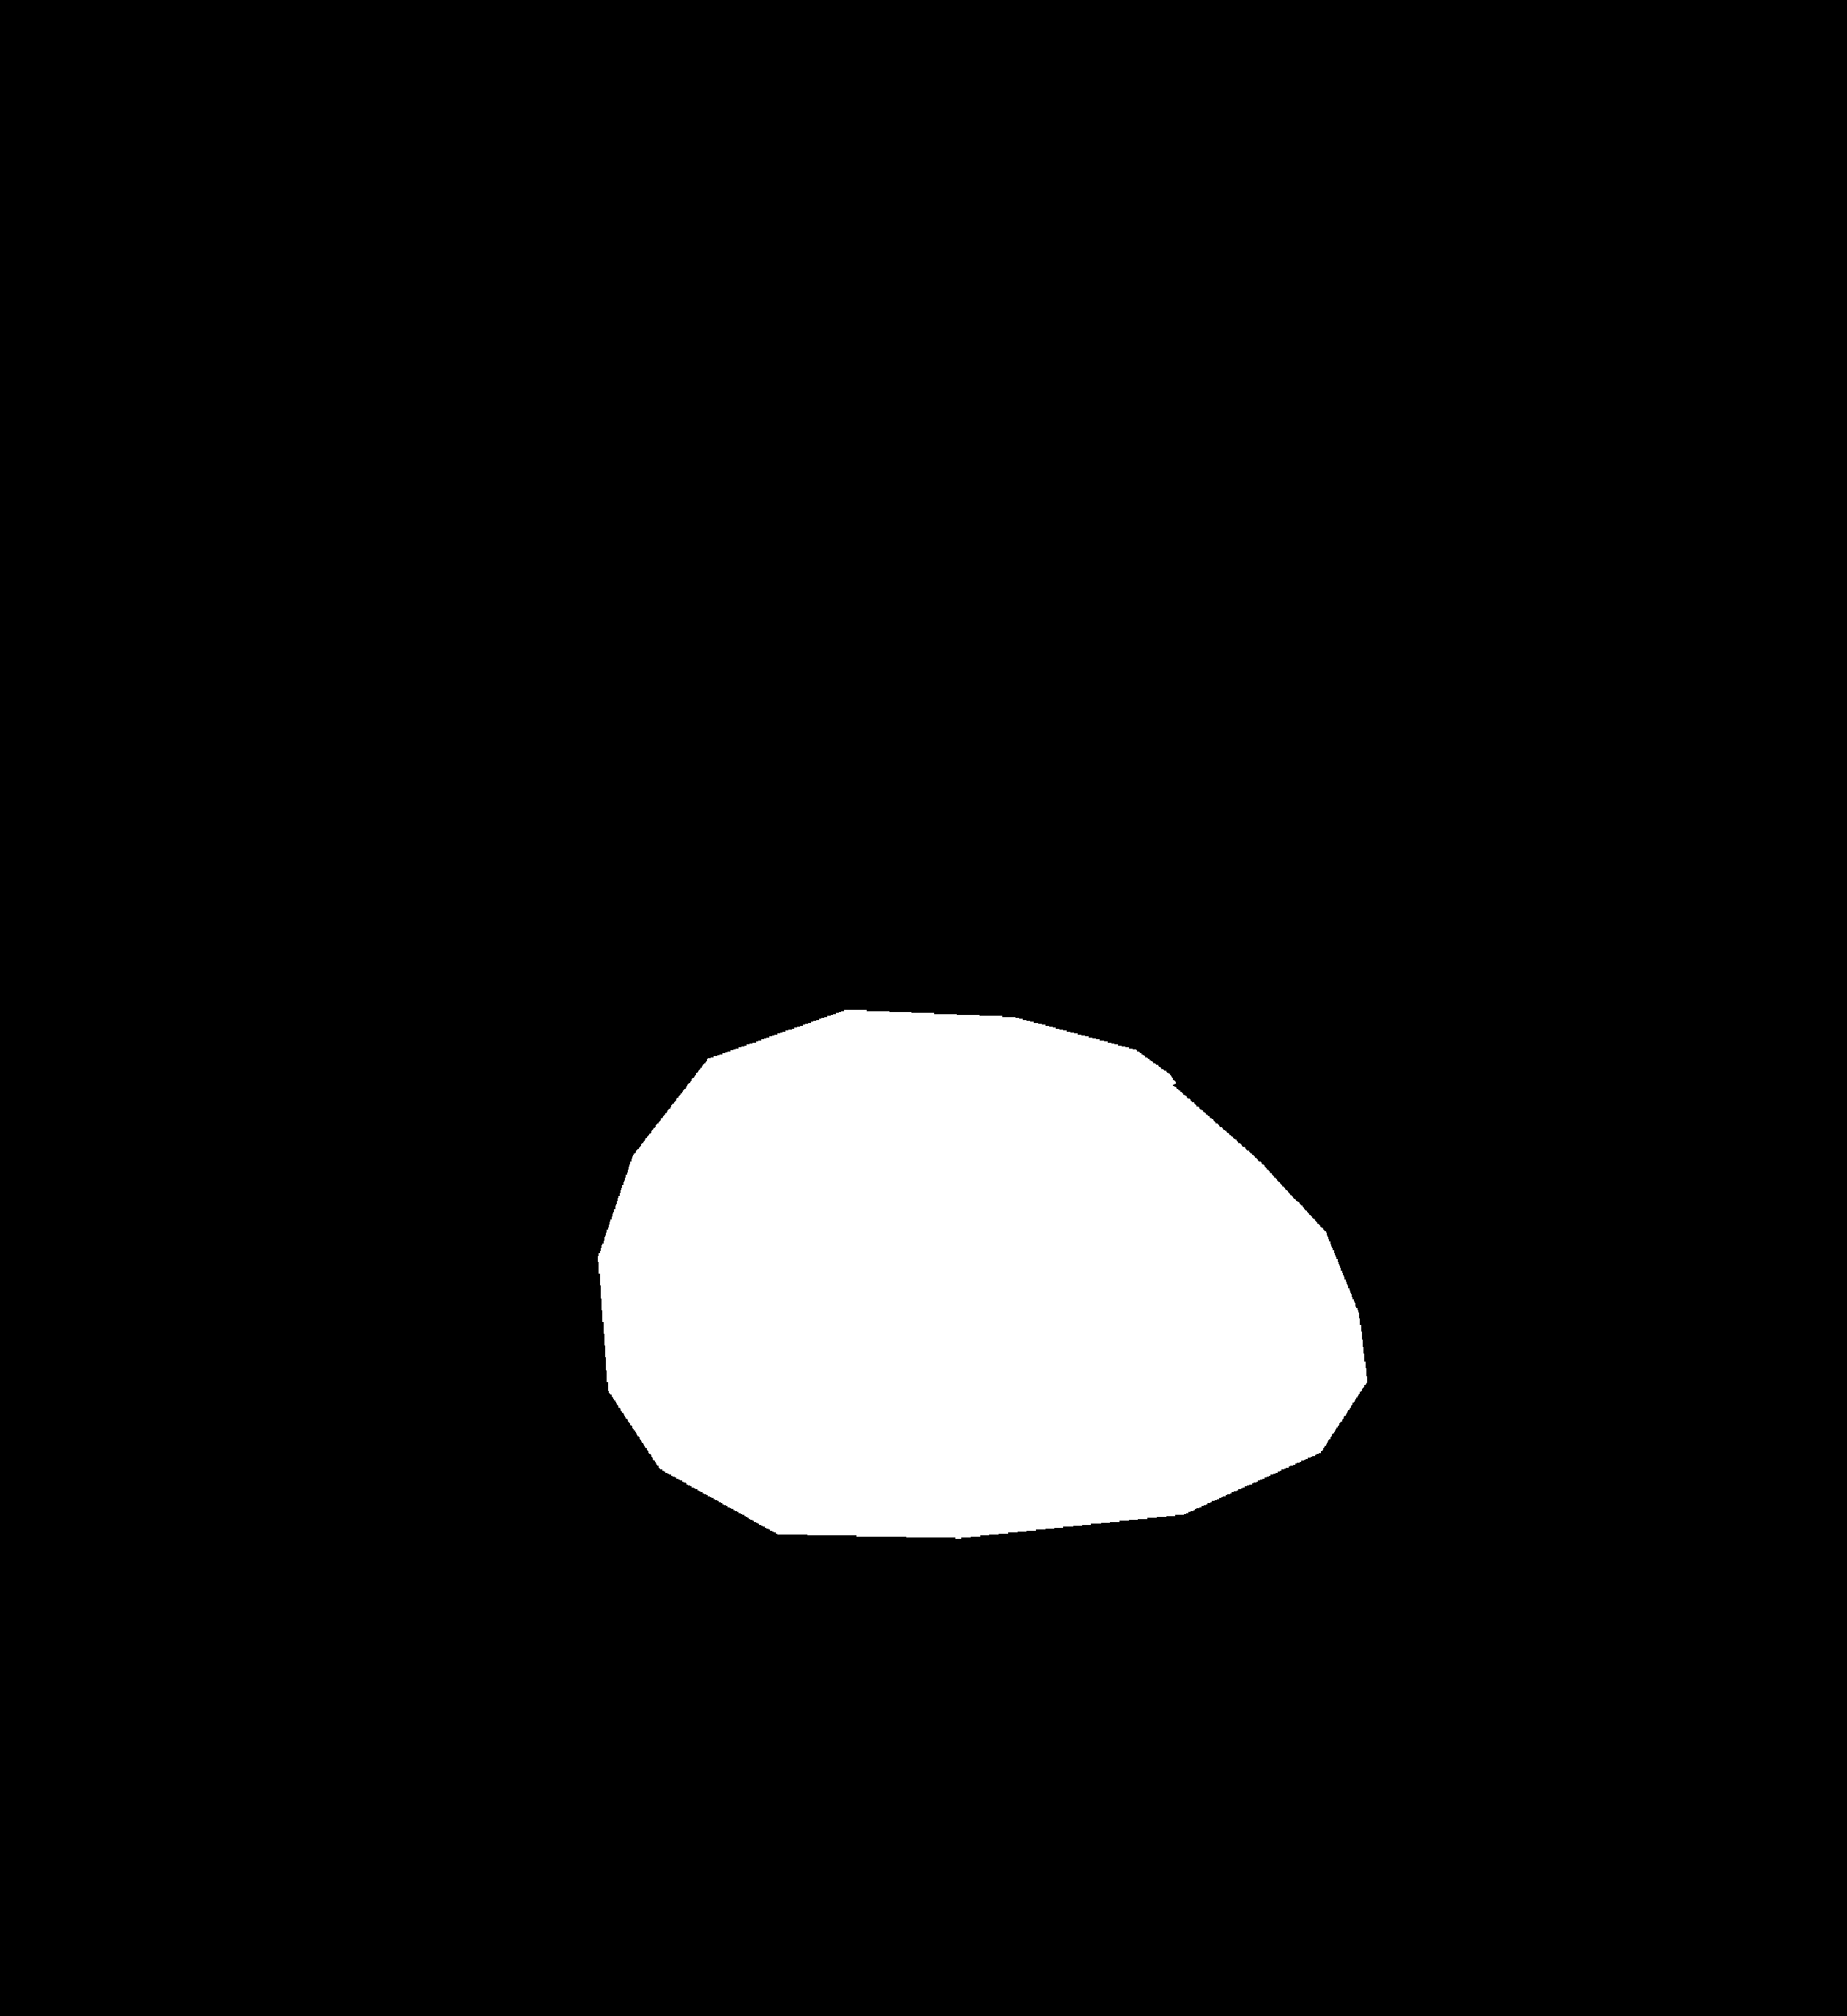heart: (648, 1024, 1369, 1556)
left_lung: (212, 248, 880, 1386)
right_lung: (1036, 239, 1652, 1547)
